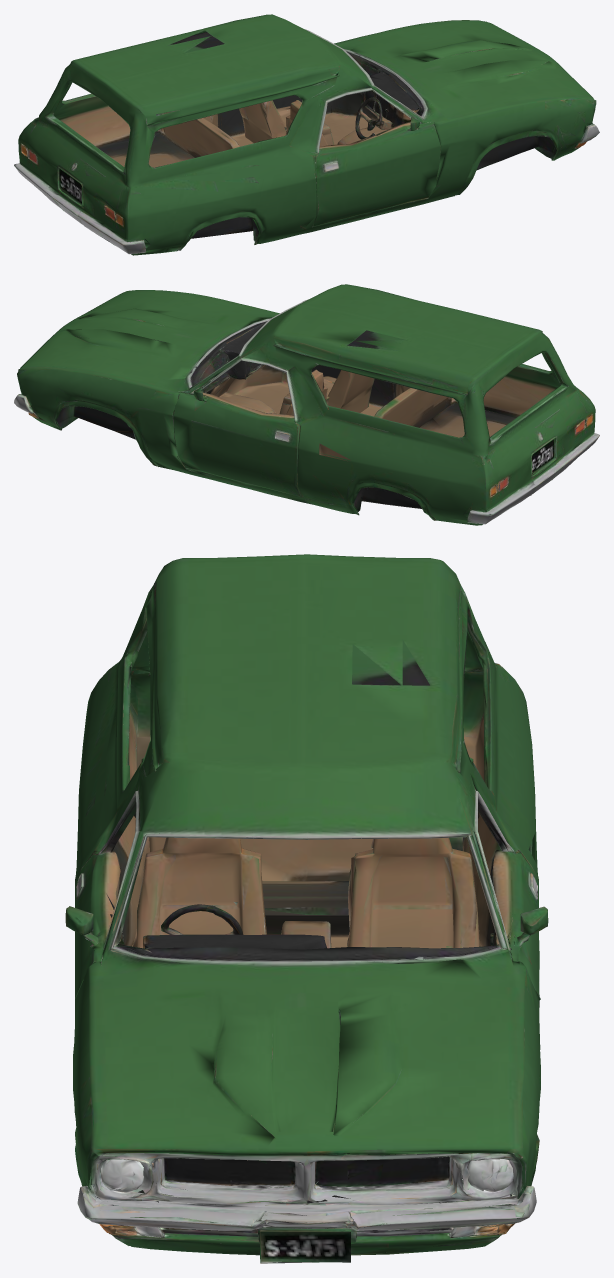
File: hearse.glb
3 renders of one model, top to bottom at view 1: azimuth 30°, elevation 25°; view 2: azimuth 150°, elevation 25°; view 3: azimuth 270°, elevation 25°, orthographic. The views are drawn at different scales.
Visible parts, largest first — view 1: hearse; view 2: hearse; view 3: hearse.
Boxes of the visible parts, left/top/right/bottom form: hearse: left=14, top=14, right=599, bottom=255; hearse: left=14, top=284, right=599, bottom=525; hearse: left=65, top=554, right=548, bottom=1263.
Bounding box in the file's own units: 5.4 × 1.62 × 2.31.
Materials: 1 (1 with a texture image).
